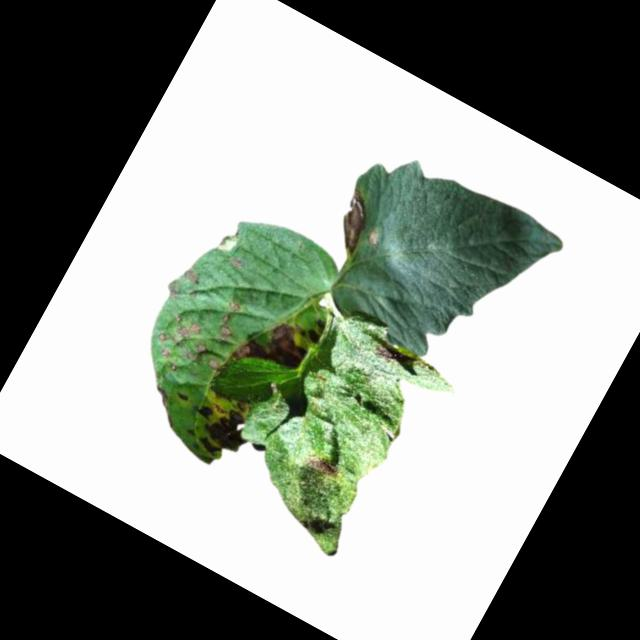Early_blight: (230, 297, 325, 391), (185, 395, 260, 467), (324, 187, 384, 257), (208, 298, 248, 349), (301, 449, 343, 483), (173, 313, 203, 343), (181, 338, 208, 366), (371, 338, 397, 361), (172, 385, 193, 404), (203, 355, 222, 372)
